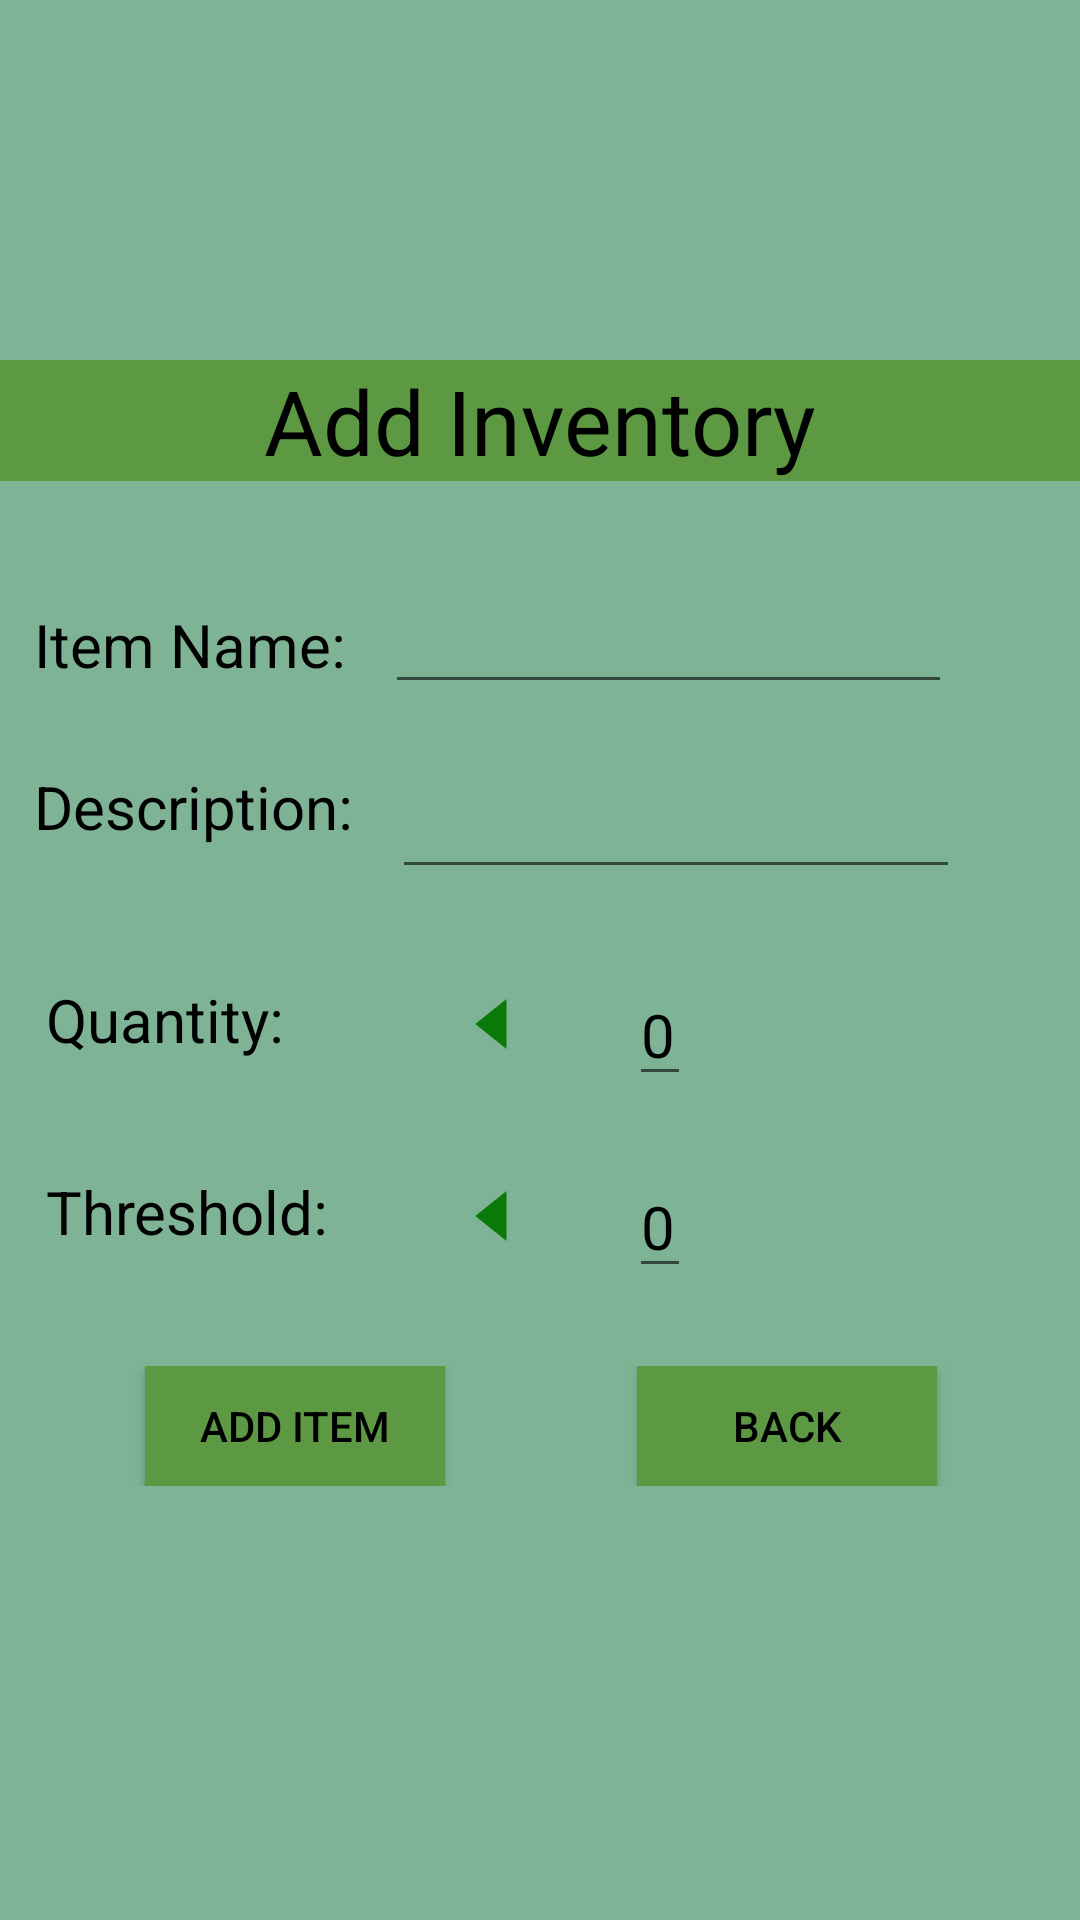

Icon bounding boxes for this 1080×1920 phone screenshot, format (x1, y1, x2, y2):
arrow left: (475, 999, 507, 1049), (475, 1191, 507, 1241)
